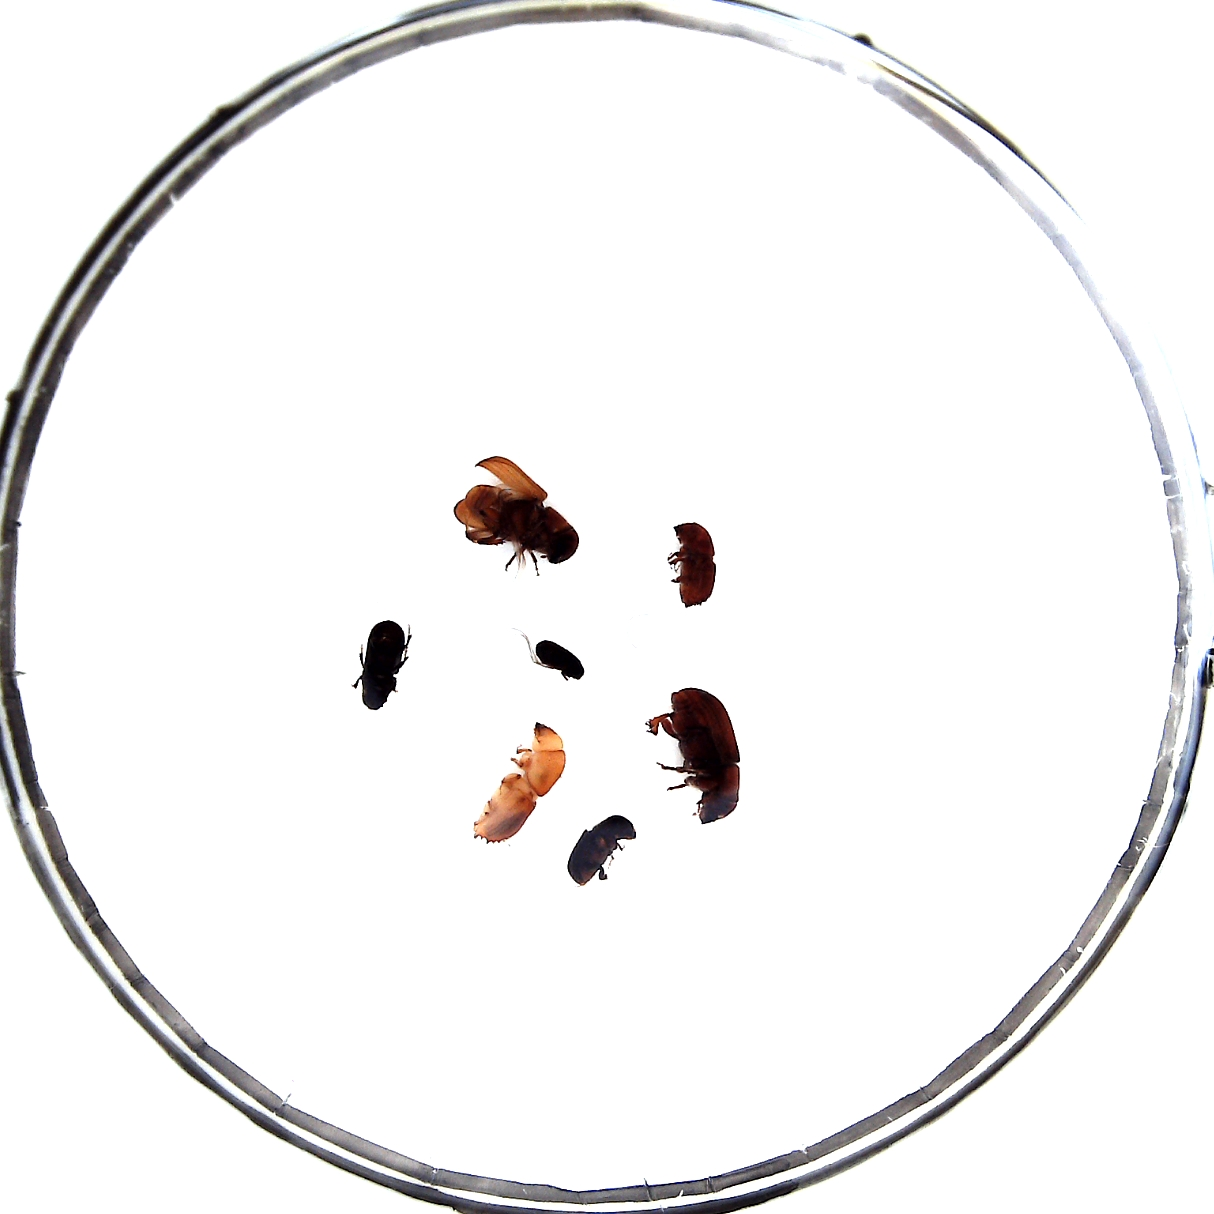Boerner: (472, 722, 565, 844)
Leconte: (452, 457, 579, 564), (671, 687, 739, 825)
armandi: (567, 815, 635, 886), (361, 620, 406, 710)
coleoptera: (534, 638, 585, 680)
linnaeus: (671, 521, 716, 607)
